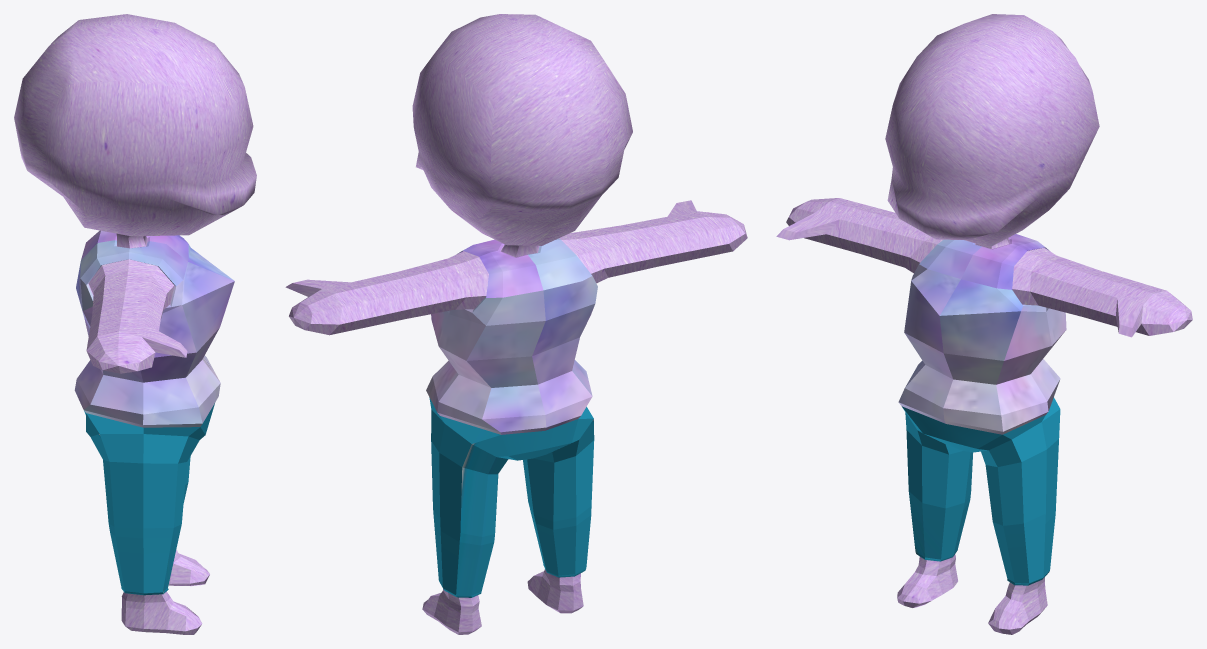
File: Lashay_Character.fbx
The picture shows the model from 3 angles, left to right: view 1: azimuth 30°, elevation 25°; view 2: azimuth 150°, elevation 25°; view 3: azimuth 270°, elevation 25°; orthographic projection. The views are drawn at different scales.
Visible parts, largest first — view 1: Lasahy_Character; view 2: Lasahy_Character; view 3: Lasahy_Character.
Part boxes in pixels (x1=…): Lasahy_Character: x1=14, y1=14, x2=256, y2=634; Lasahy_Character: x1=285, y1=14, x2=747, y2=634; Lasahy_Character: x1=776, y1=14, x2=1192, y2=634.
Bounding box in the file's own units: 1.15 × 2.27 × 1.51.
3 materials, 3 textured.
